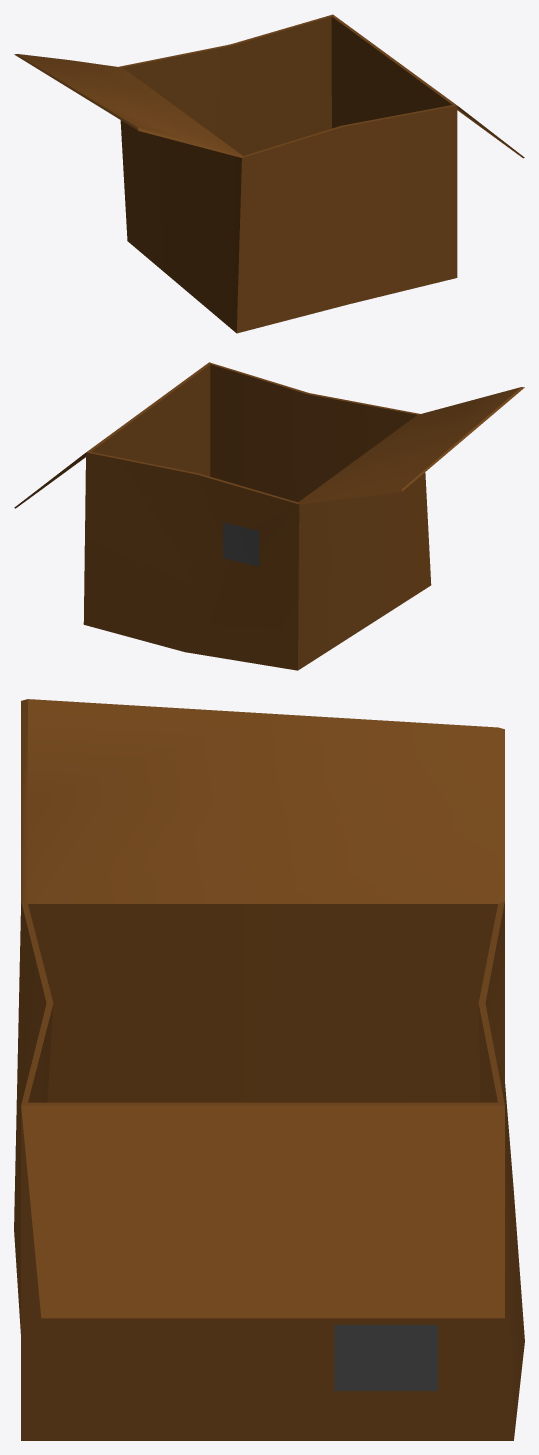
File: decor_box2.fbx
The picture shows the model from 3 angles, top to bottom: view 1: azimuth 30°, elevation 25°; view 2: azimuth 150°, elevation 25°; view 3: azimuth 270°, elevation 25°; orthographic projection. The views are drawn at different scales.
Parts seen in each view (by area): view 1: decor_box2; view 2: decor_box2; view 3: decor_box2.
Boxes of the visible parts, box(x1,y1,x2,y2) form: decor_box2: box(14, 14, 524, 333); decor_box2: box(14, 362, 524, 670); decor_box2: box(14, 699, 524, 1440).
Bounding box in the file's own units: 84.19 × 46.49 × 48.89.
